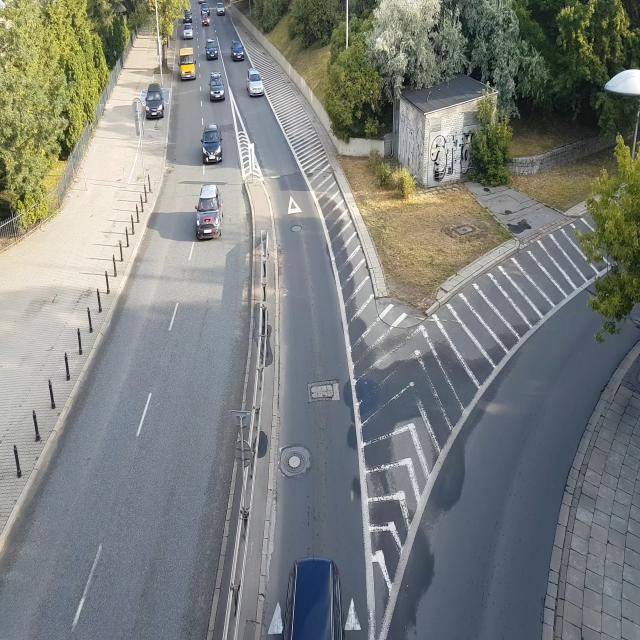car: (192, 186, 226, 244), (201, 121, 225, 166), (144, 81, 166, 128), (177, 43, 197, 82), (244, 65, 265, 100), (208, 72, 226, 104), (228, 36, 246, 64), (204, 32, 220, 63), (182, 23, 195, 40), (215, 2, 226, 18), (200, 12, 210, 28), (182, 10, 195, 22), (201, 2, 210, 14), (198, 0, 206, 3)
